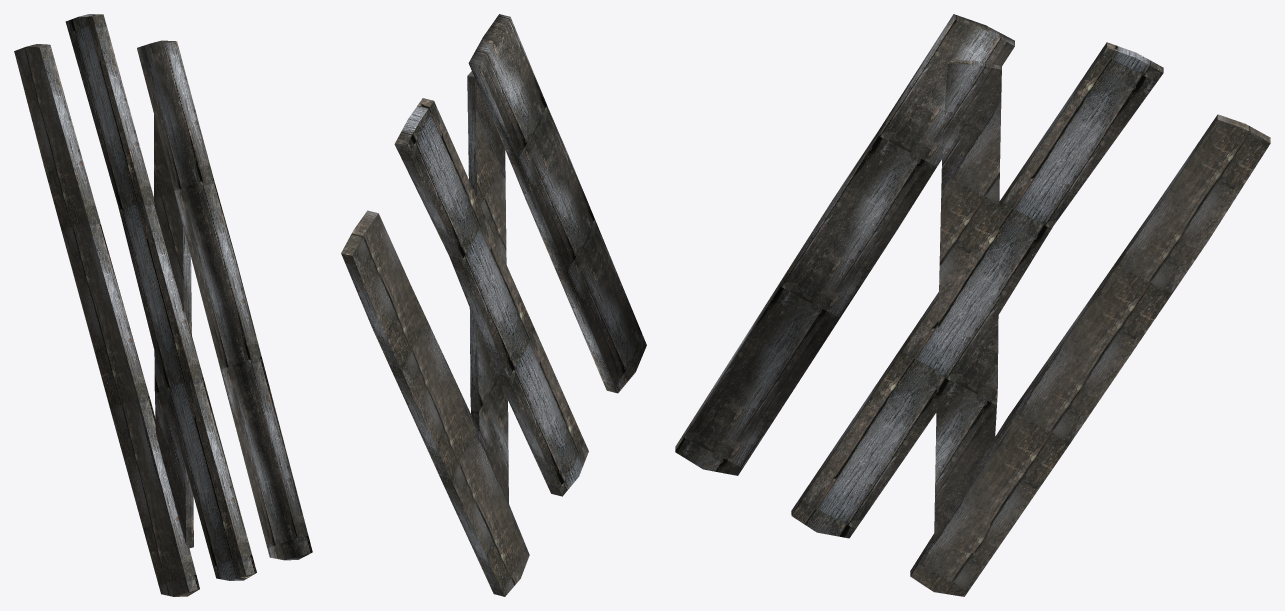
Rendered from wood_fortif.FBX.
3 renders of one model, left to right at view 1: azimuth 30°, elevation 25°; view 2: azimuth 150°, elevation 25°; view 3: azimuth 270°, elevation 25°, orthographic. The views are drawn at different scales.
Visible parts, largest first — view 1: Old_DoorPlank_01; view 2: Old_DoorPlank_01; view 3: Old_DoorPlank_01.
Boxes of the visible parts, <box> form: Old_DoorPlank_01: <box>14,14,312,596</box>; Old_DoorPlank_01: <box>341,14,646,596</box>; Old_DoorPlank_01: <box>675,14,1270,596</box>.
Size of the model in its own units: 0.4573 by 11.88 by 11.1.
Materials: 1 (1 with a texture image).
